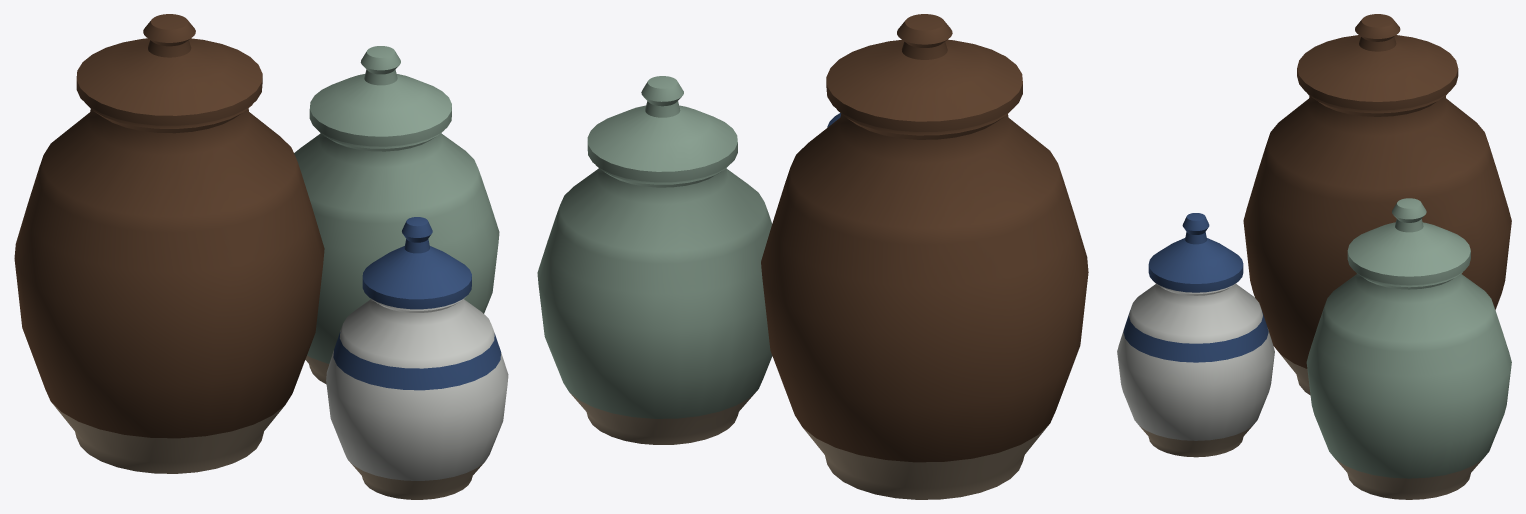
The model's file is jars.glb.
3 views of the same model, side by side, from view 1: azimuth 30°, elevation 25°; view 2: azimuth 150°, elevation 25°; view 3: azimuth 270°, elevation 25° (orthographic). The views are drawn at different scales.
Parts seen in each view (by area): view 1: jars; view 2: jars; view 3: jars.
Part boxes in pixels (x1,y1,x2,y2): jars: (14,14,508,499); jars: (537,14,1088,499); jars: (1117,14,1511,499).
Size of the model in its own units: 0.59 by 0.5 by 0.5.
